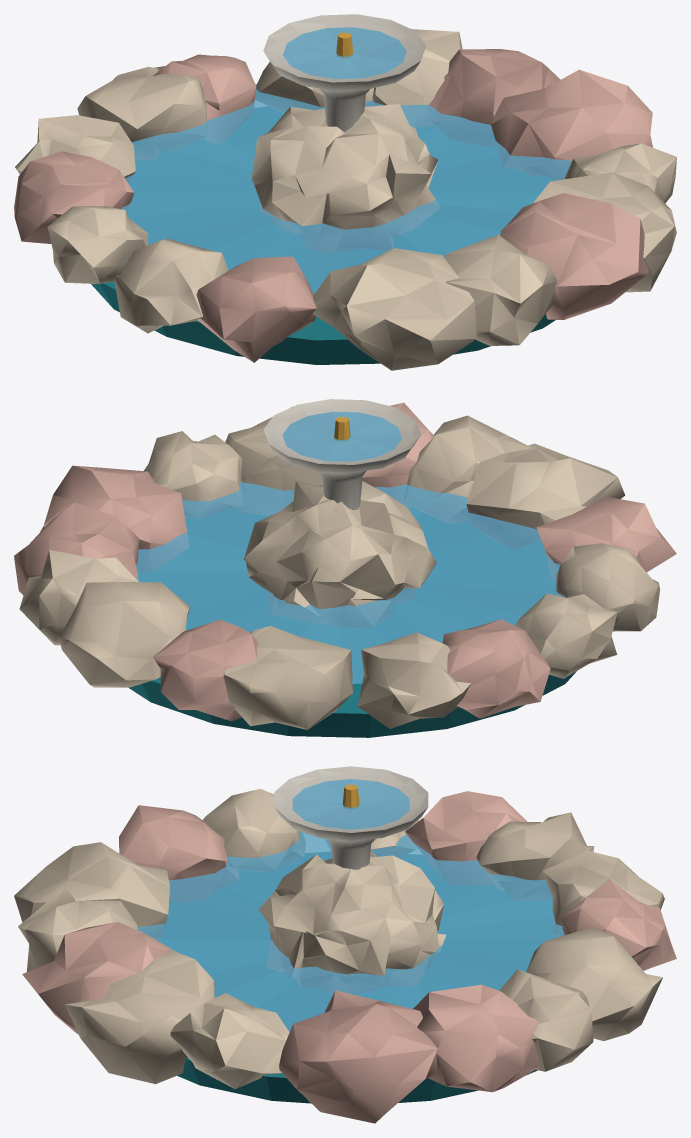
The model's file is ZB_yapi_ab_i_hayat_pinari.glb.
The picture shows the model from 3 angles, top to bottom: view 1: azimuth 30°, elevation 25°; view 2: azimuth 150°, elevation 25°; view 3: azimuth 270°, elevation 25°; orthographic projection. The views are drawn at different scales.
Visible parts, largest first — view 1: ZB_yapi_ab_i_hayat_pinari; view 2: ZB_yapi_ab_i_hayat_pinari; view 3: ZB_yapi_ab_i_hayat_pinari.
Boxes of the visible parts, x1=… form: ZB_yapi_ab_i_hayat_pinari: x1=14, y1=14, x2=676, y2=370; ZB_yapi_ab_i_hayat_pinari: x1=14, y1=399, x2=676, y2=737; ZB_yapi_ab_i_hayat_pinari: x1=14, y1=766, x2=676, y2=1123.
Size of the model in its own units: 3.75 by 1.4 by 3.86.
